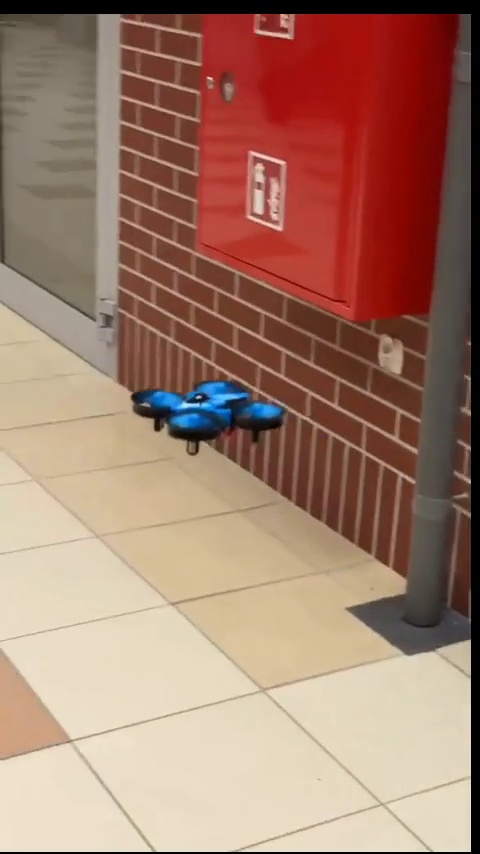drone: (132, 374, 283, 458)
